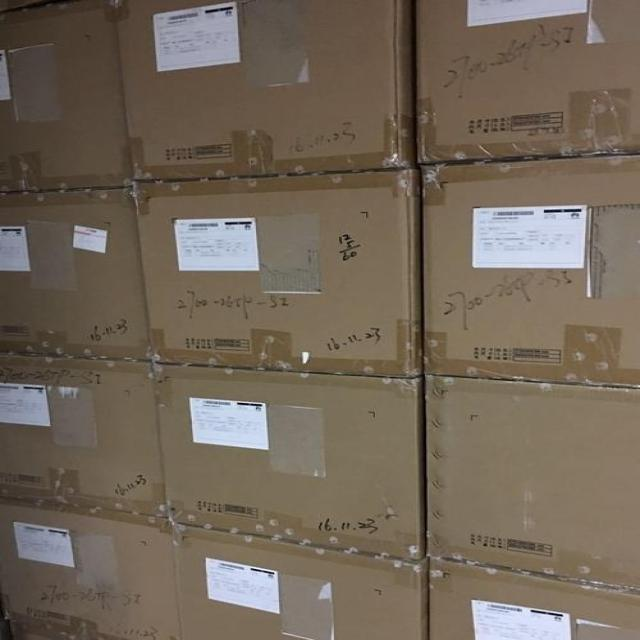box: (131, 168, 419, 378), (115, 1, 414, 183), (154, 362, 424, 560), (416, 155, 639, 389), (424, 378, 639, 588), (413, 0, 639, 166), (173, 525, 428, 638), (0, 355, 168, 521), (0, 185, 153, 363), (0, 1, 132, 193), (0, 505, 181, 639), (428, 559, 638, 639)
